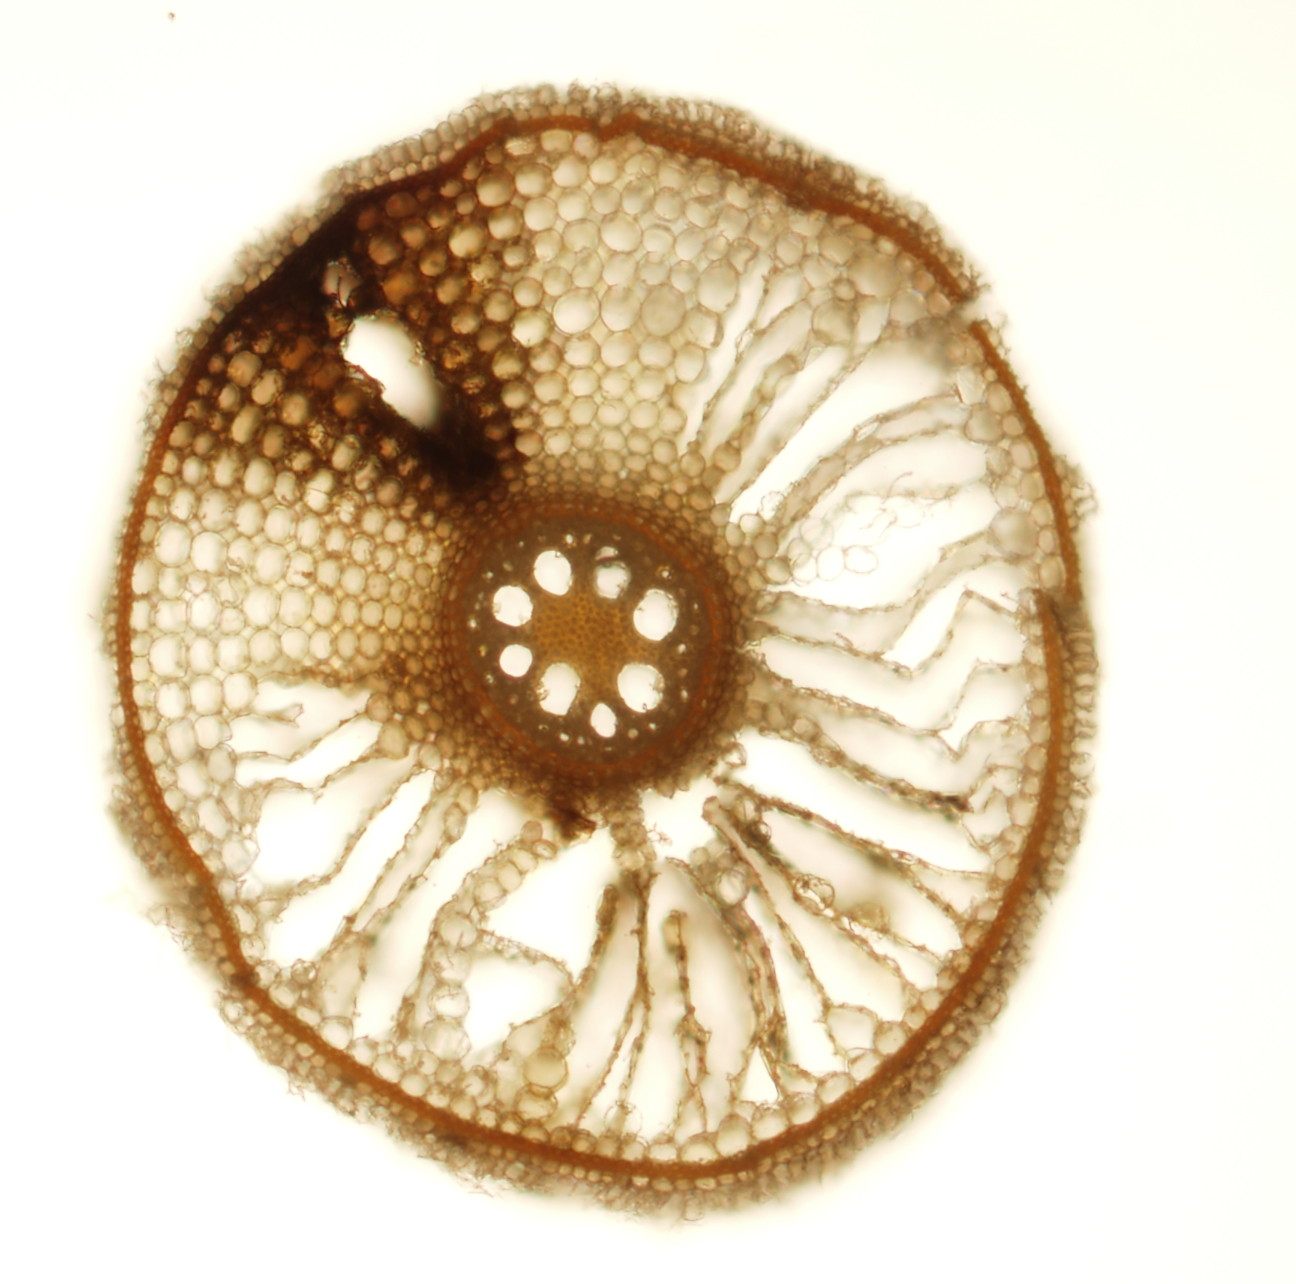lm: (633, 588, 679, 641), (617, 662, 664, 713), (537, 662, 581, 716), (534, 549, 572, 596), (492, 586, 533, 626), (594, 561, 632, 598), (499, 644, 532, 677), (590, 703, 617, 738)
